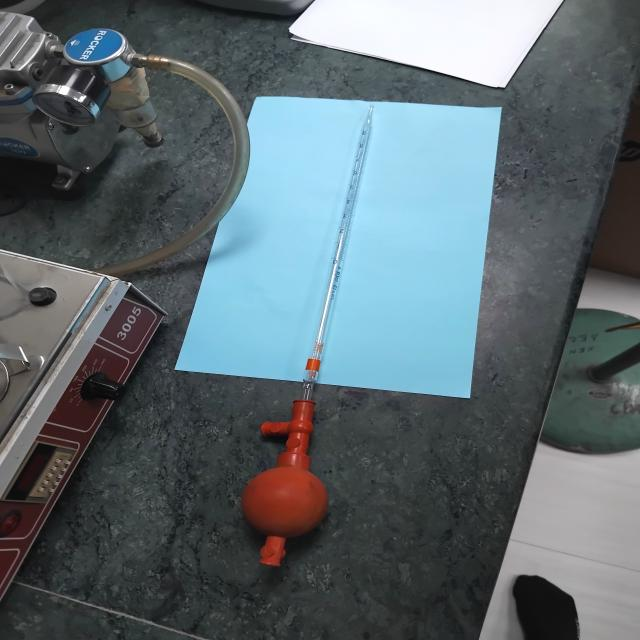Volumetric_Pipet: (237, 102, 381, 584)
